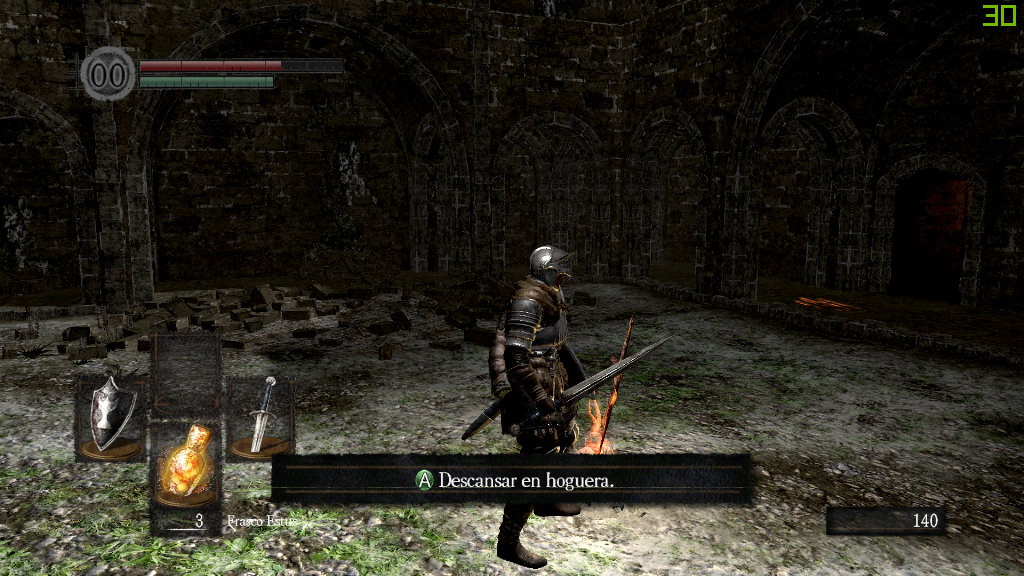bonfire: (582, 312, 639, 455)
dialogBox: (270, 455, 753, 505)
health: (138, 58, 343, 71)
humanity: (80, 45, 136, 102)
player: (464, 245, 674, 572)
souls: (825, 506, 945, 536)
stamina: (138, 74, 274, 88)
